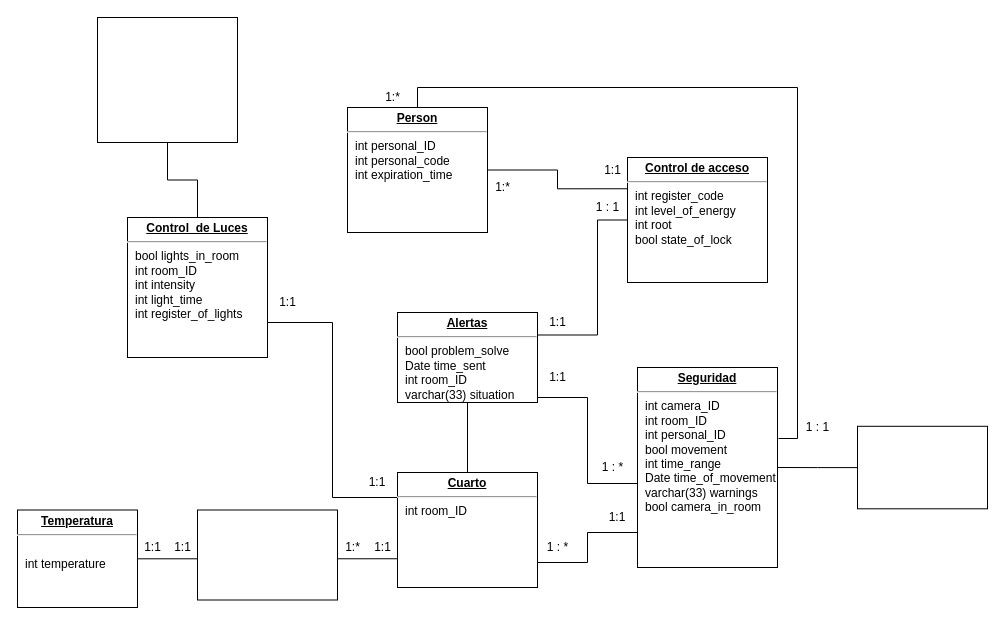
Image size: 1005x625. Some labels were removed from this diagram. The shapes that lost their labels are listed below. From the top down, each one's box as (x1, y1, x2, y2) in pixels, then its label:
(96, 16, 238, 142): Lights bool lights_on_off
(856, 425, 988, 509): Camara int camera_ID
(196, 509, 338, 600): Termostato int room_ID varchar(13) warning
